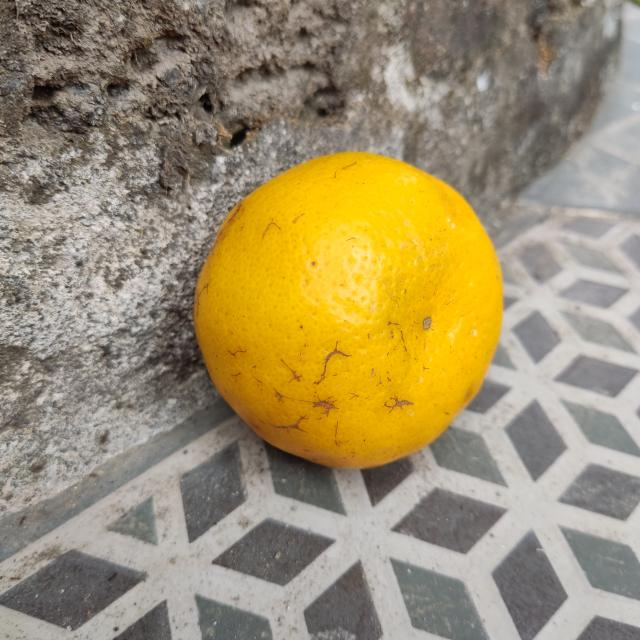orange: (196, 148, 506, 474)
